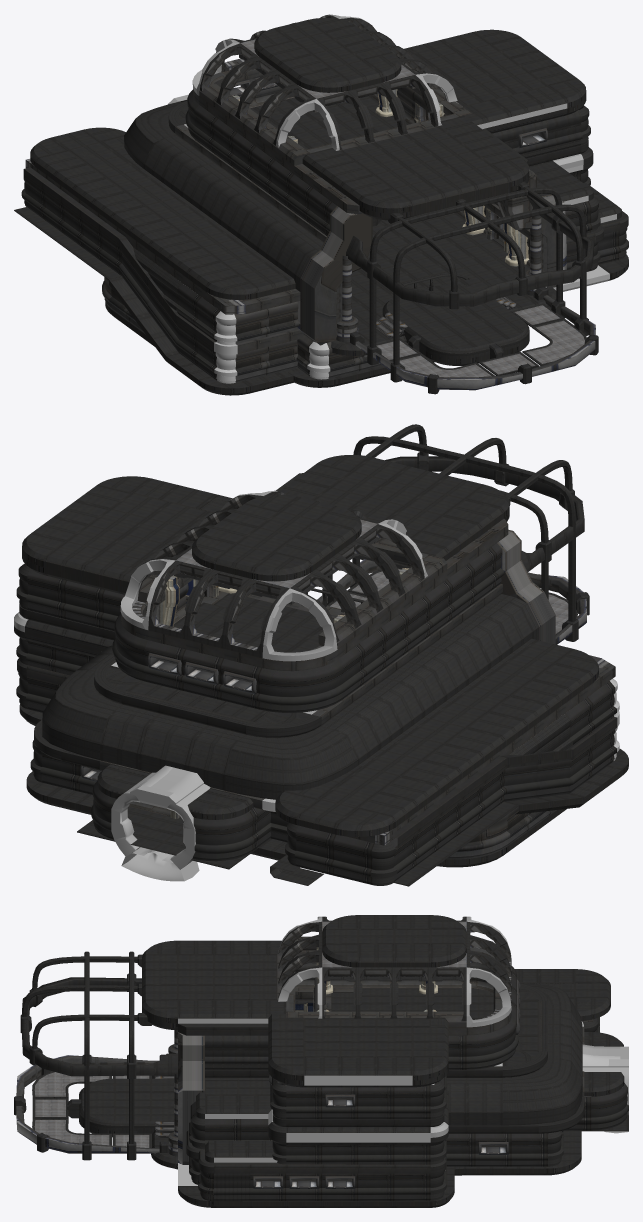
Rendered from Bridge.fbx.
The picture shows the model from 3 angles, top to bottom: view 1: azimuth 30°, elevation 25°; view 2: azimuth 150°, elevation 25°; view 3: azimuth 270°, elevation 25°; orthographic projection. The views are drawn at different scales.
Parts seen in each view (by area): view 1: DarkFlooring, polySurface3352, Framing1, Untextured3, Ceiling, Secondary_Walls, Breach_004, Windows2, Stairs1, Doors; view 2: DarkFlooring, polySurface3352, Framing1, Untextured3, Breach_003, Windows2, Breach_002, Breach_004, Secondary_Walls, Ceiling; view 3: DarkFlooring, Framing1, polySurface3352, Untextured3, Ceiling, Breach_002, Windows2, Breach_001, Secondary_Walls.
Boxes of the visible parts, box(x1,y1,x2,y2) form: DarkFlooring: box(14, 15, 628, 395); polySurface3352: box(25, 39, 529, 382); Framing1: box(201, 15, 595, 390); Untextured3: box(168, 14, 609, 383); Ceiling: box(376, 305, 584, 377); Secondary_Walls: box(233, 89, 529, 266); Breach_004: box(288, 174, 312, 223); Windows2: box(230, 77, 547, 357); Stairs1: box(376, 296, 516, 337); Doors: box(414, 102, 508, 252); DarkFlooring: box(14, 424, 628, 886); polySurface3352: box(99, 518, 615, 859); Framing1: box(139, 492, 586, 650); Untextured3: box(14, 490, 619, 881); Breach_003: box(258, 660, 344, 712); Windows2: box(80, 653, 256, 781); Breach_002: box(30, 740, 80, 791); Breach_004: box(447, 563, 476, 619); Secondary_Walls: box(156, 568, 408, 626); Ceiling: box(330, 568, 568, 633); DarkFlooring: box(14, 915, 628, 1207); Framing1: box(16, 916, 511, 1164); polySurface3352: box(277, 921, 592, 1096); Untextured3: box(178, 916, 628, 1185); Ceiling: box(34, 1072, 149, 1147); Breach_002: box(511, 1131, 563, 1166); Windows2: box(269, 979, 563, 1188); Breach_001: box(250, 1173, 286, 1200); Secondary_Walls: box(295, 947, 437, 1011).
Bounding box in the file's own units: 38.25 × 19.5 × 51.14.
